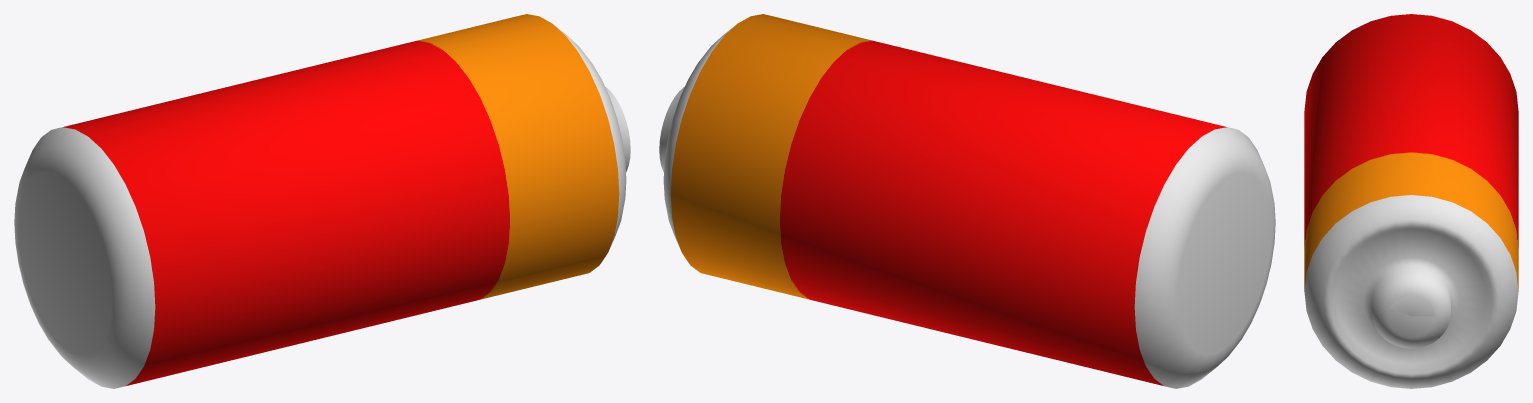
The model's file is Battery_Pickup.fbx.
3 views of the same model, side by side, from view 1: azimuth 30°, elevation 25°; view 2: azimuth 150°, elevation 25°; view 3: azimuth 270°, elevation 25° (orthographic). The views are drawn at different scales.
Parts seen in each view (by area): view 1: Cylinder; view 2: Cylinder; view 3: Cylinder.
Part boxes in pixels (<box>): Cylinder: <box>14,14,630,388</box>; Cylinder: <box>659,14,1275,388</box>; Cylinder: <box>1304,14,1518,388</box>.
Size of the model in its own units: 237 by 100 by 100.
Materials: 2 (1 with a texture image).
